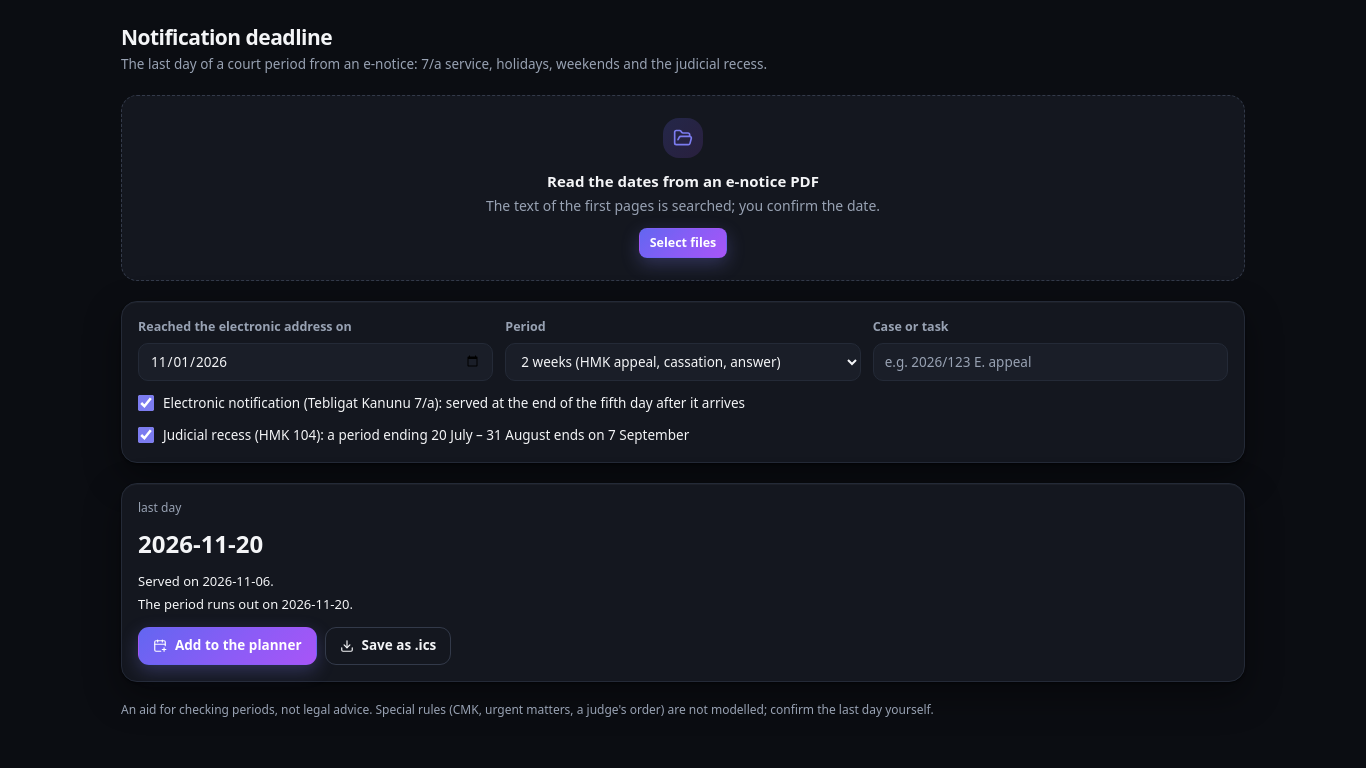
notification deadline screen › computes the last day from an e-notice arrival and explains each step
In the date field labelled "Reached the electronic address on": [316, 362] box 138,343 -> 493,381, type "2026-03-02"
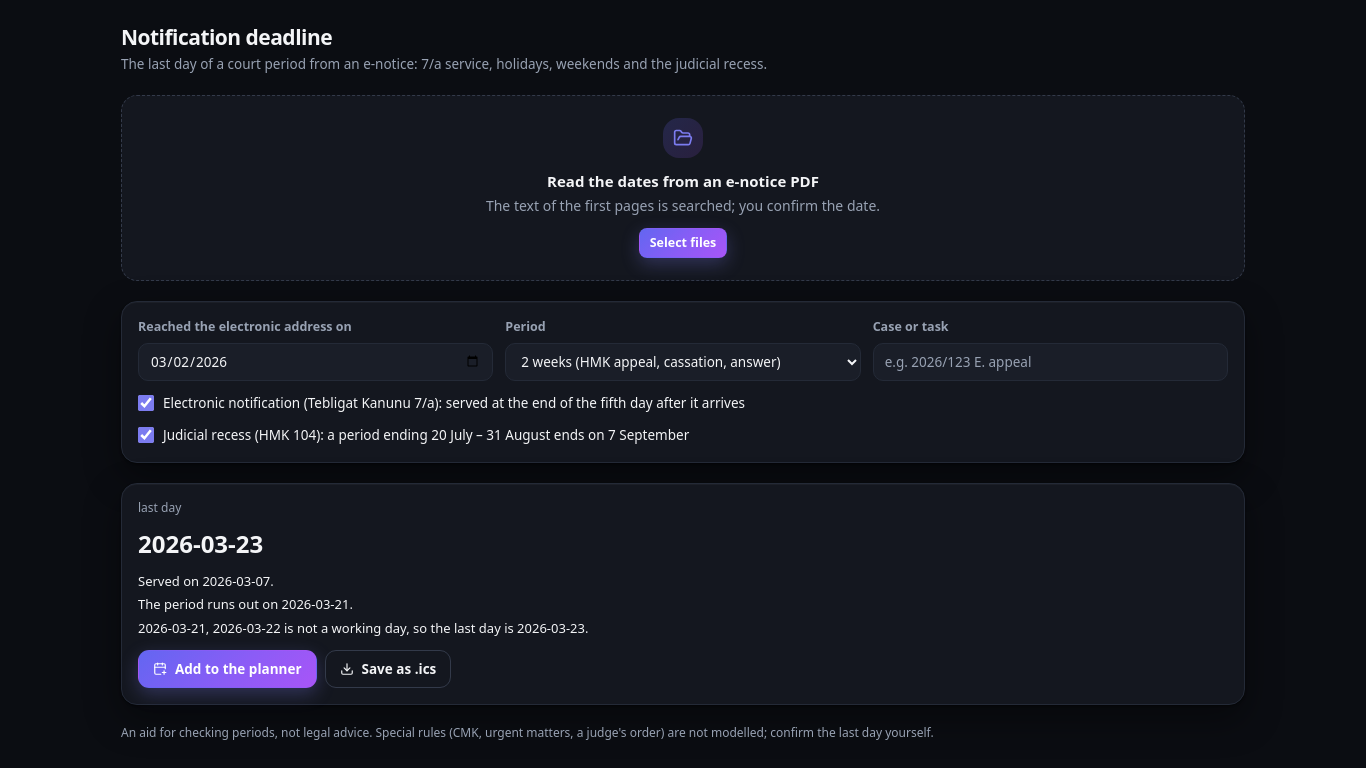
Expected: the text with test id "deadline-result" reads "2026-03-23", 138,526 -> 263,560
Expected: the list item "Served on 2026-03-07." is shown, 138,572 -> 274,590
Expected: the list item "2026-03-21, 2026-03-22" is shown, 138,618 -> 588,636
